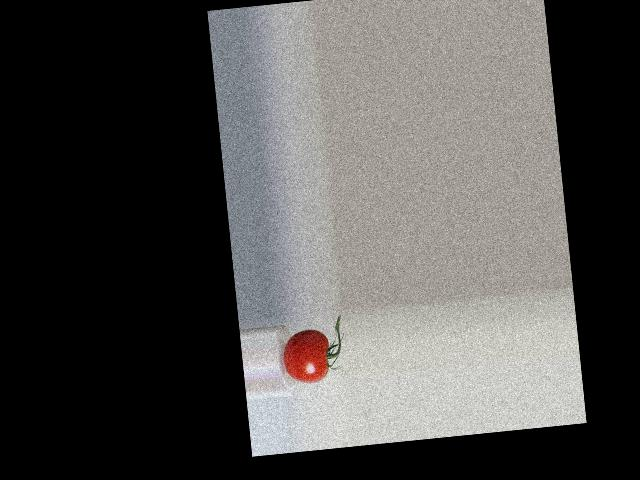tomato: (280, 327, 332, 385)
